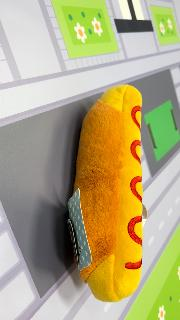hotdog: (67, 84, 145, 304)
